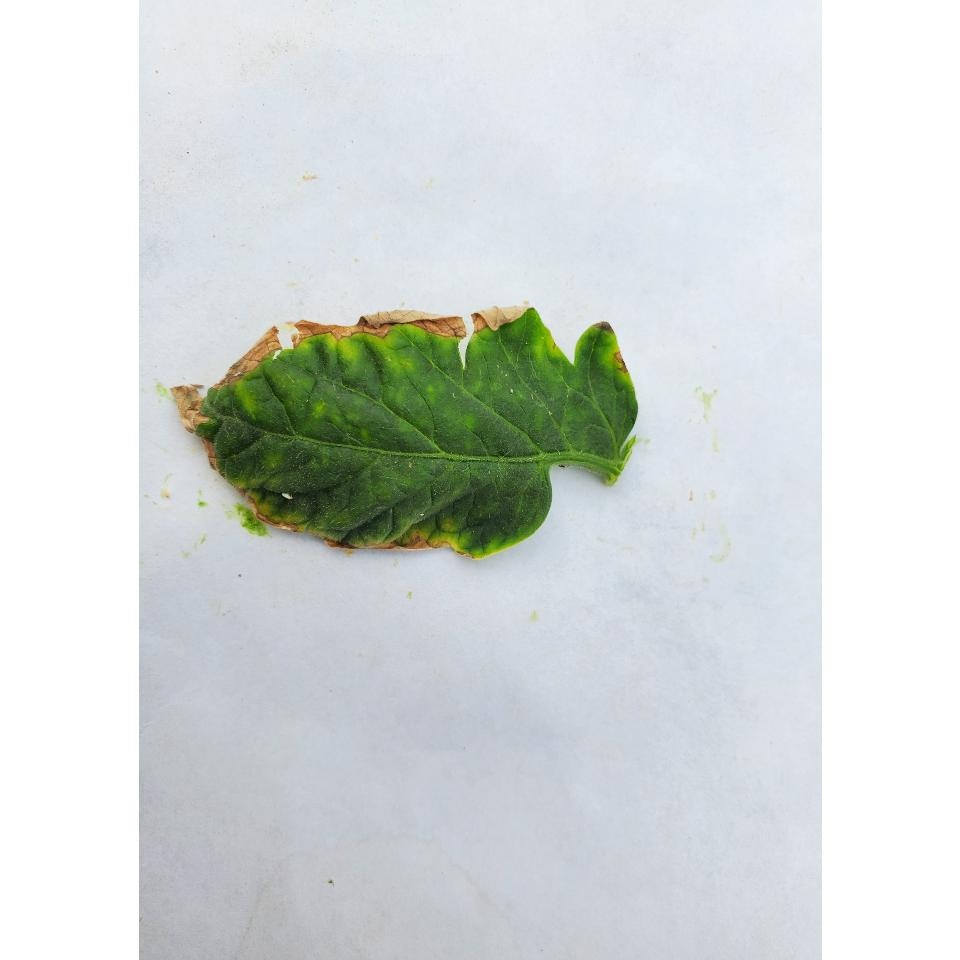tomato_bacterial_blight: (167, 296, 653, 570)
